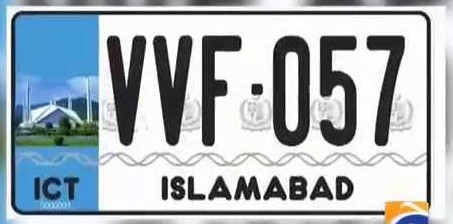0: (268, 31, 313, 147)
5: (315, 31, 361, 148)
7: (364, 32, 407, 148)
A: (261, 174, 287, 202), (207, 173, 232, 202), (308, 174, 334, 201)
B: (287, 173, 308, 203)
C: (41, 174, 63, 202)
D: (333, 172, 355, 202)
F: (198, 29, 246, 149)
I: (31, 175, 43, 201), (159, 173, 169, 202)
L: (186, 173, 207, 203)
M: (232, 174, 262, 202)
S: (169, 174, 186, 203)
T: (63, 173, 82, 203)
V: (150, 30, 195, 147), (103, 29, 147, 147)
